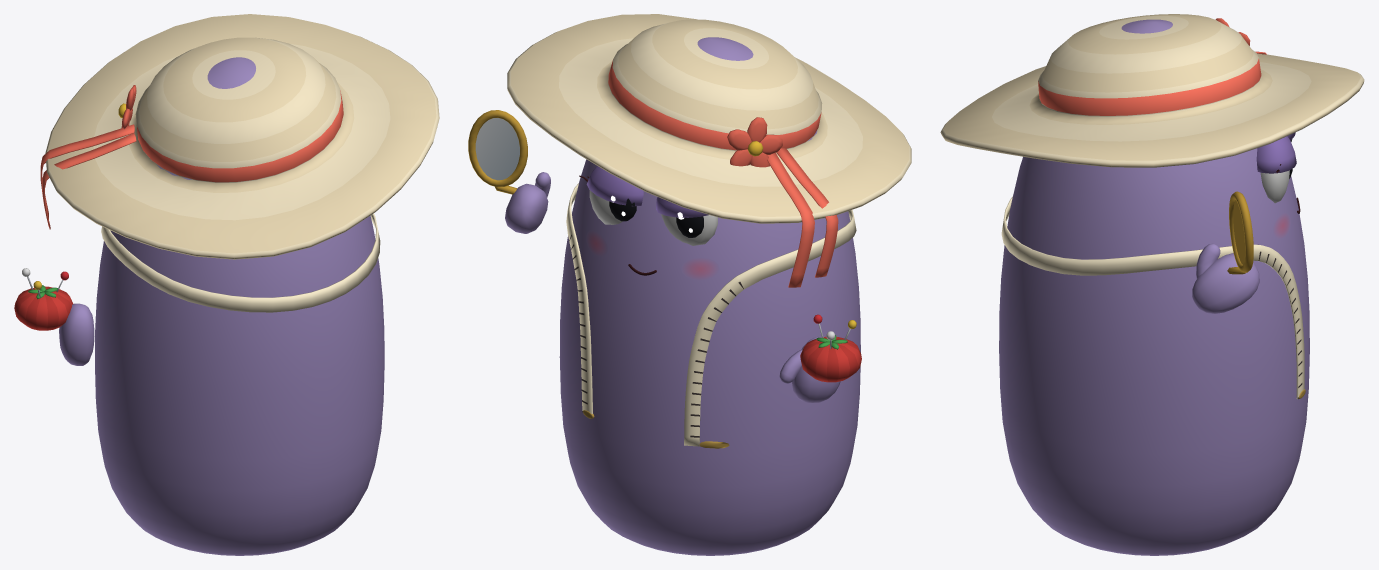
The model's file is liza.glb.
The picture shows the model from 3 angles, left to right: view 1: azimuth 30°, elevation 25°; view 2: azimuth 150°, elevation 25°; view 3: azimuth 270°, elevation 25°; orthographic projection. The views are drawn at different scales.
Parts seen in each view (by area): view 1: body, prop.L, hand.L; view 2: body, prop.R, prop.L, eyes, hand.R, lid, hand.L; view 3: body, hand.R, prop.R, lid, eyes.
Part boxes in pixels (<box>): body: <box>40,14,439,555</box>; prop.L: <box>14,268,73,330</box>; hand.L: <box>59,303,94,365</box>; body: <box>507,14,911,555</box>; prop.R: <box>468,110,527,194</box>; prop.L: <box>800,314,861,382</box>; eyes: <box>589,190,717,245</box>; hand.R: <box>505,172,550,233</box>; lid: <box>579,166,708,217</box>; hand.L: <box>779,336,840,402</box>; body: <box>940,14,1364,555</box>; hand.R: <box>1192,243,1259,313</box>; prop.R: <box>1227,191,1253,274</box>; lid: <box>1256,132,1296,173</box>; eyes: <box>1260,139,1296,203</box>.
Size of the model in its own units: 1.42 by 1.69 by 1.32.
